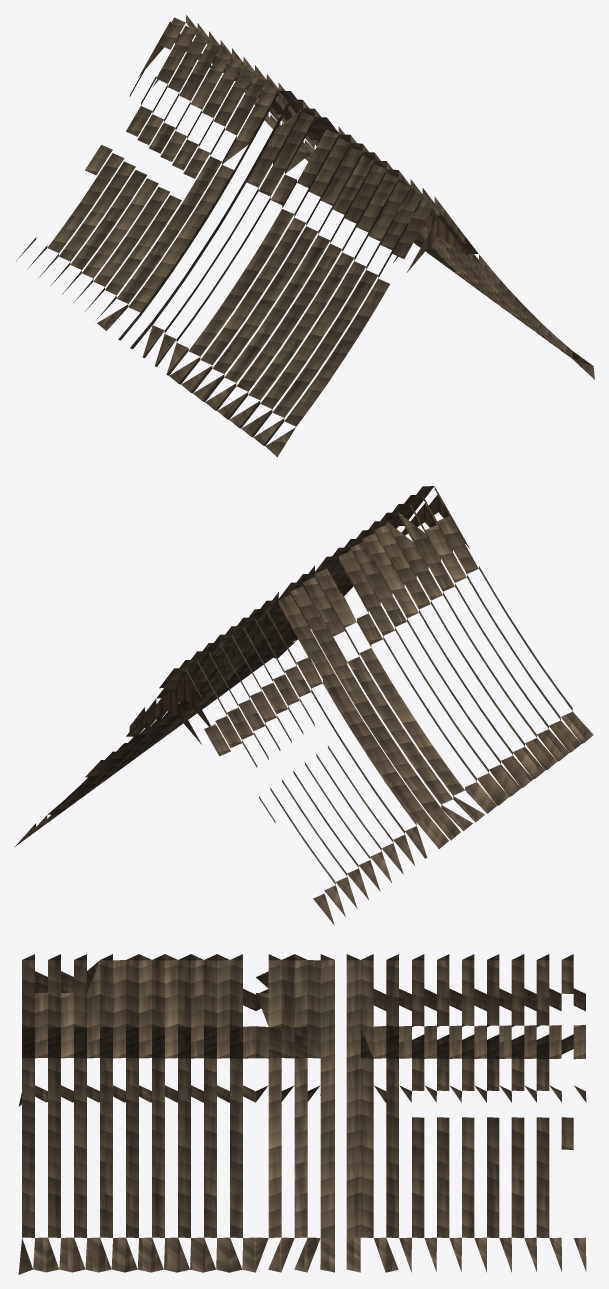
File: Roof_Shingle_6x10_LOD1.gltf
3 views of the same model, one above another, from view 1: azimuth 30°, elevation 25°; view 2: azimuth 150°, elevation 25°; view 3: azimuth 270°, elevation 25° (orthographic). The views are drawn at different scales.
Parts seen in each view (by area): view 1: Roof_Shingle_6x10_LOD1; view 2: Roof_Shingle_6x10_LOD1; view 3: Roof_Shingle_6x10_LOD1.
Part boxes in pixels (<box>): Roof_Shingle_6x10_LOD1: <box>16,15,594,457</box>; Roof_Shingle_6x10_LOD1: <box>14,486,593,925</box>; Roof_Shingle_6x10_LOD1: <box>18,954,586,1274</box>.
Bounding box in the file's own units: 8.25 × 5.17 × 11.66.
2 materials, 2 textured.
